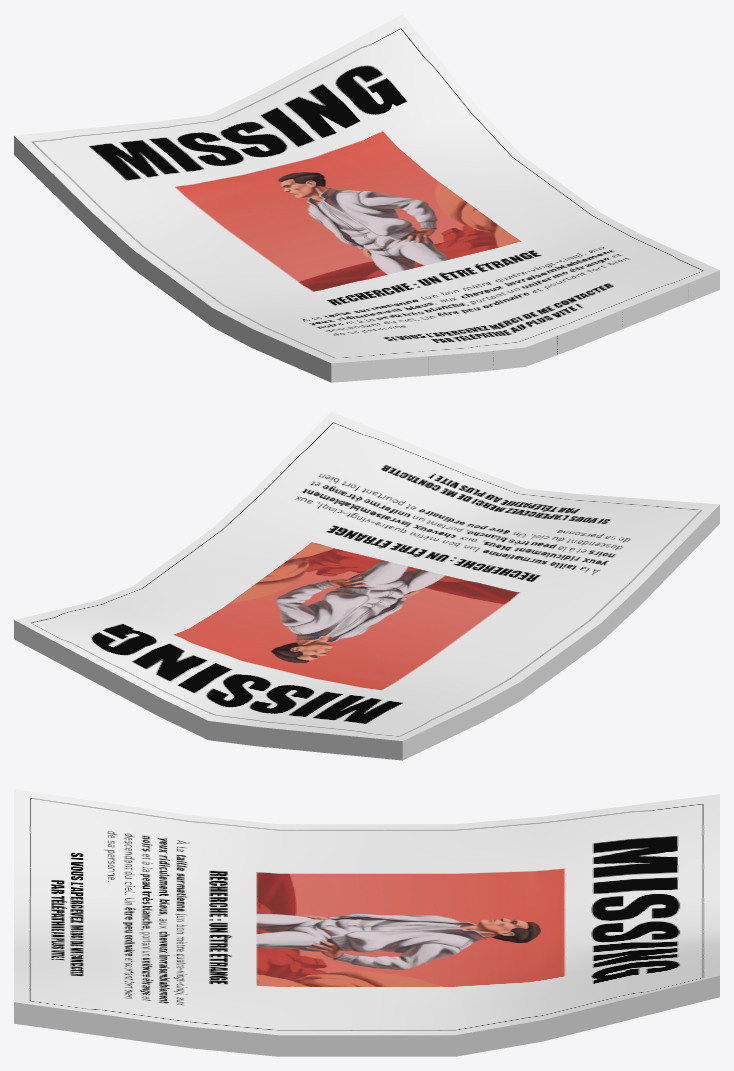
Rendered from 01-affichelost-3D (1).fbx.
3 renders of one model, top to bottom at view 1: azimuth 30°, elevation 25°; view 2: azimuth 150°, elevation 25°; view 3: azimuth 270°, elevation 25°, orthographic. The views are drawn at different scales.
Parts seen in each view (by area): view 1: pCube1; view 2: pCube1; view 3: pCube1.
Part boxes in pixels (bbox=[...]): pCube1: bbox=[14, 14, 719, 382]; pCube1: bbox=[14, 411, 719, 760]; pCube1: bbox=[14, 789, 719, 1056].
Bounding box in the file's own units: 2.1 × 0.3765 × 2.97.
Materials: 1 (1 with a texture image).
